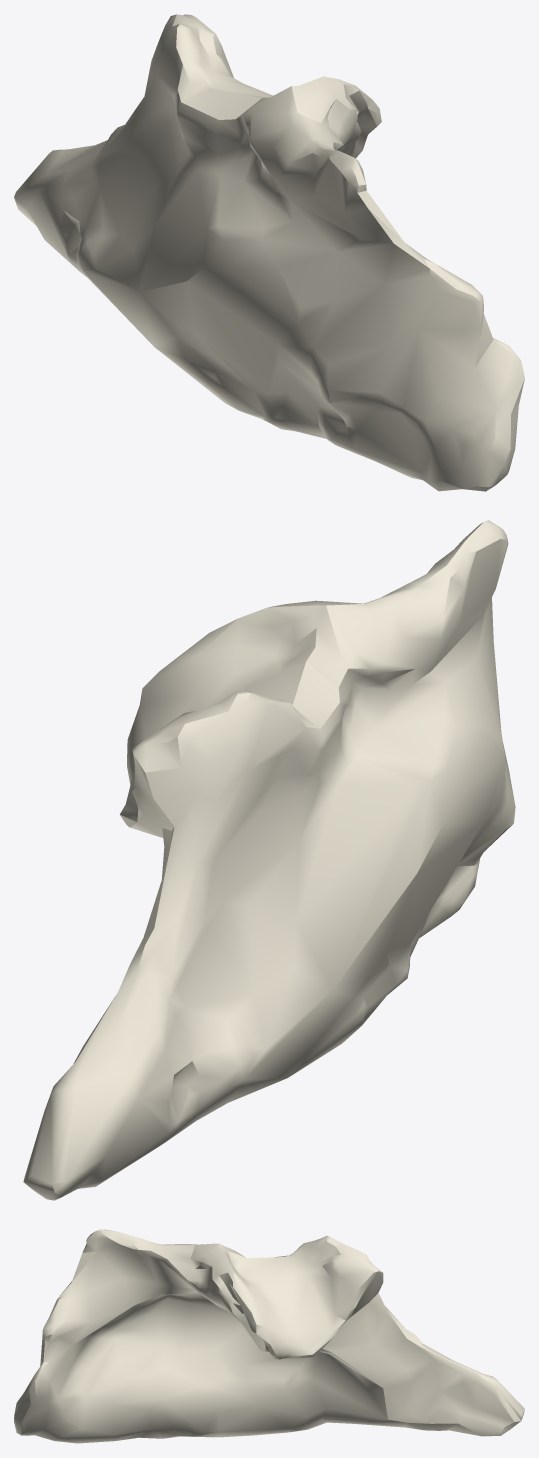
File: fma54738.glb
3 views of the same model, one above another, from view 1: azimuth 30°, elevation 25°; view 2: azimuth 150°, elevation 25°; view 3: azimuth 270°, elevation 25° (orthographic). The views are drawn at different scales.
Visible parts, largest first — view 1: FMA54738; view 2: FMA54738; view 3: FMA54738.
Part boxes in pixels (bbox=[...]): FMA54738: bbox=[14, 14, 524, 491]; FMA54738: bbox=[23, 520, 515, 1200]; FMA54738: bbox=[14, 1229, 524, 1443].
Bounding box in the file's own units: 0.01 × 0.0151 × 0.0339.
